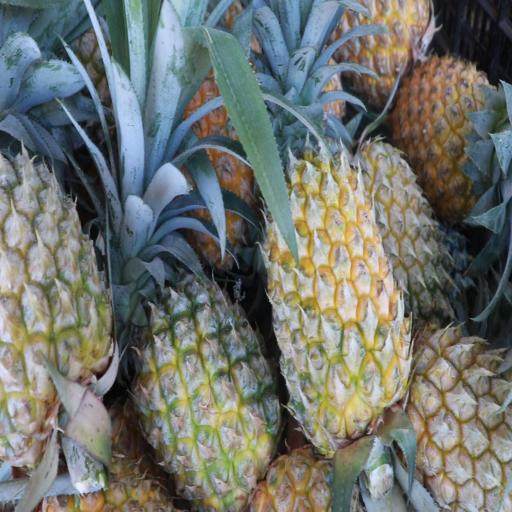------------------------------: (0, 162, 111, 459)
Pineapple - v8 v1: (272, 160, 409, 448), (141, 280, 277, 506), (399, 58, 501, 198), (332, 0, 428, 96)
